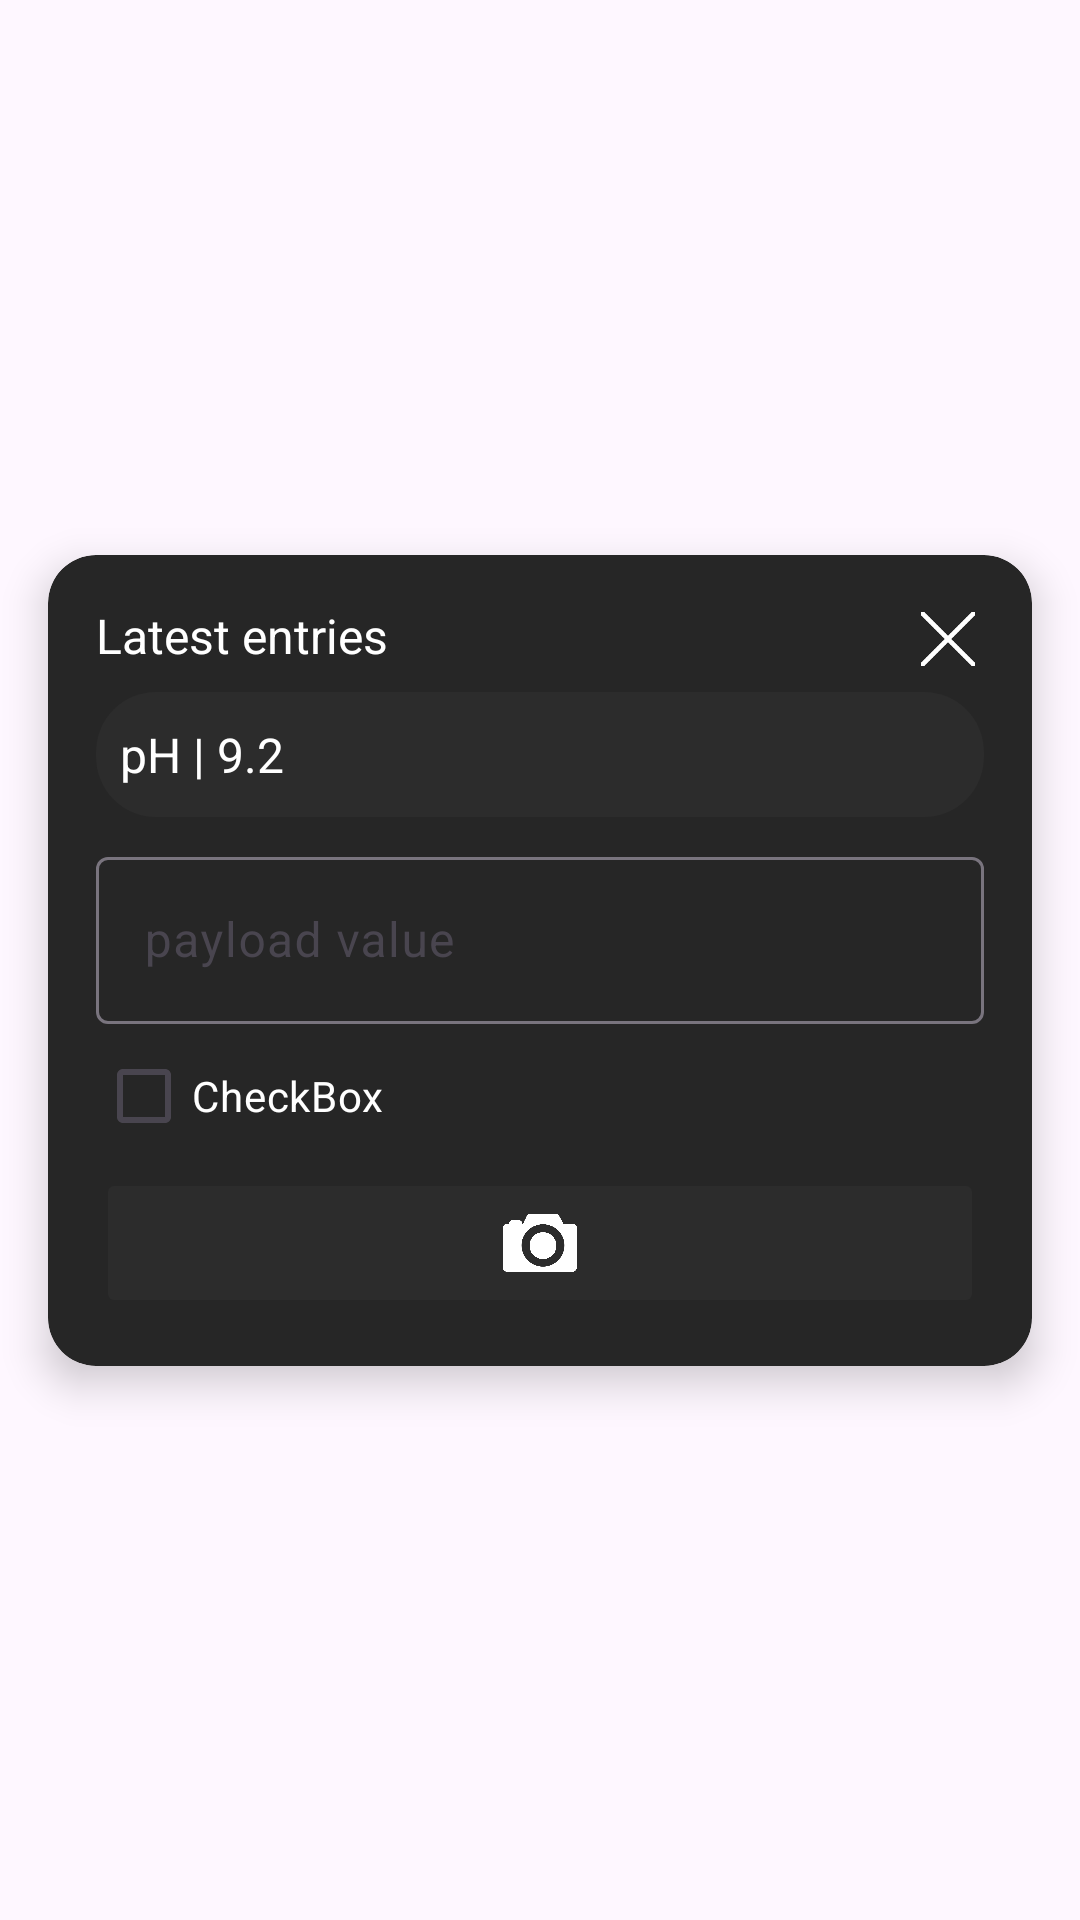

Screen size 1080 x 1920. Icon name, then its box in pixels as (x1, y1, x2, y2):
camera: (503, 1214, 577, 1272)
